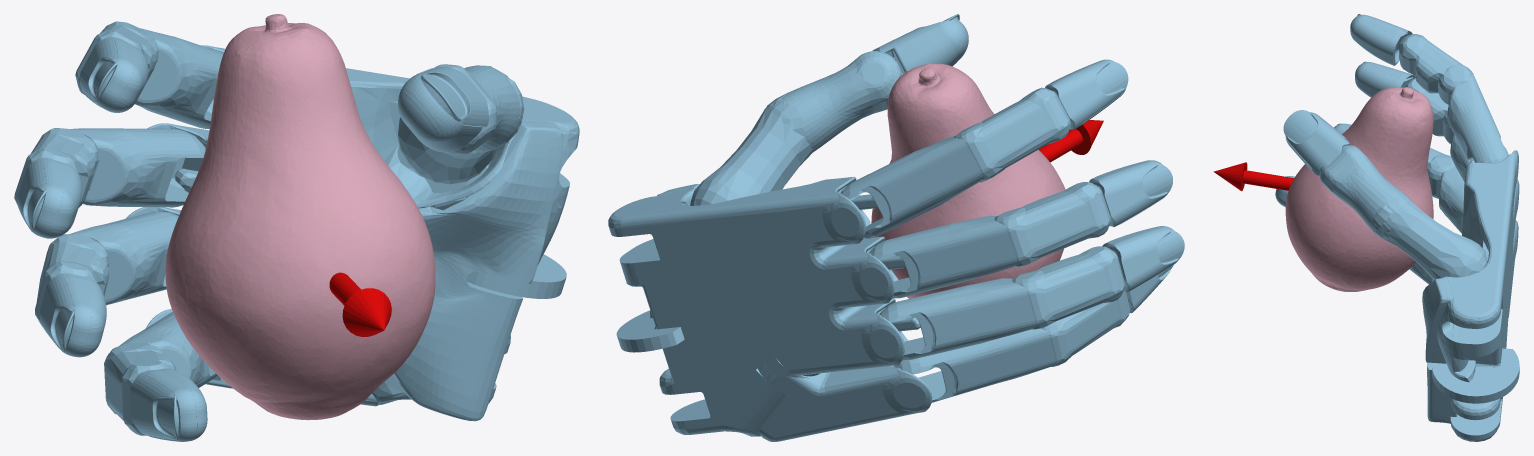
The picture shows the model from 3 angles, left to right: view 1: azimuth 30°, elevation 25°; view 2: azimuth 150°, elevation 25°; view 3: azimuth 270°, elevation 25°; orthographic projection. The views are drawn at different scales.
Parts seen in each view (by area): view 1: world, pear.stl; view 2: world, pear.stl; view 3: world, pear.stl.
Part boxes in pixels (x1,y1,x2,y2): world: (14, 21, 579, 441); pear.stl: (165, 14, 435, 420); world: (608, 14, 1184, 441); pear.stl: (871, 63, 1065, 298); world: (1213, 14, 1519, 441); pear.stl: (1285, 87, 1433, 291).
Size of the model in its own units: 0.1873 by 0.1463 by 0.1361.
